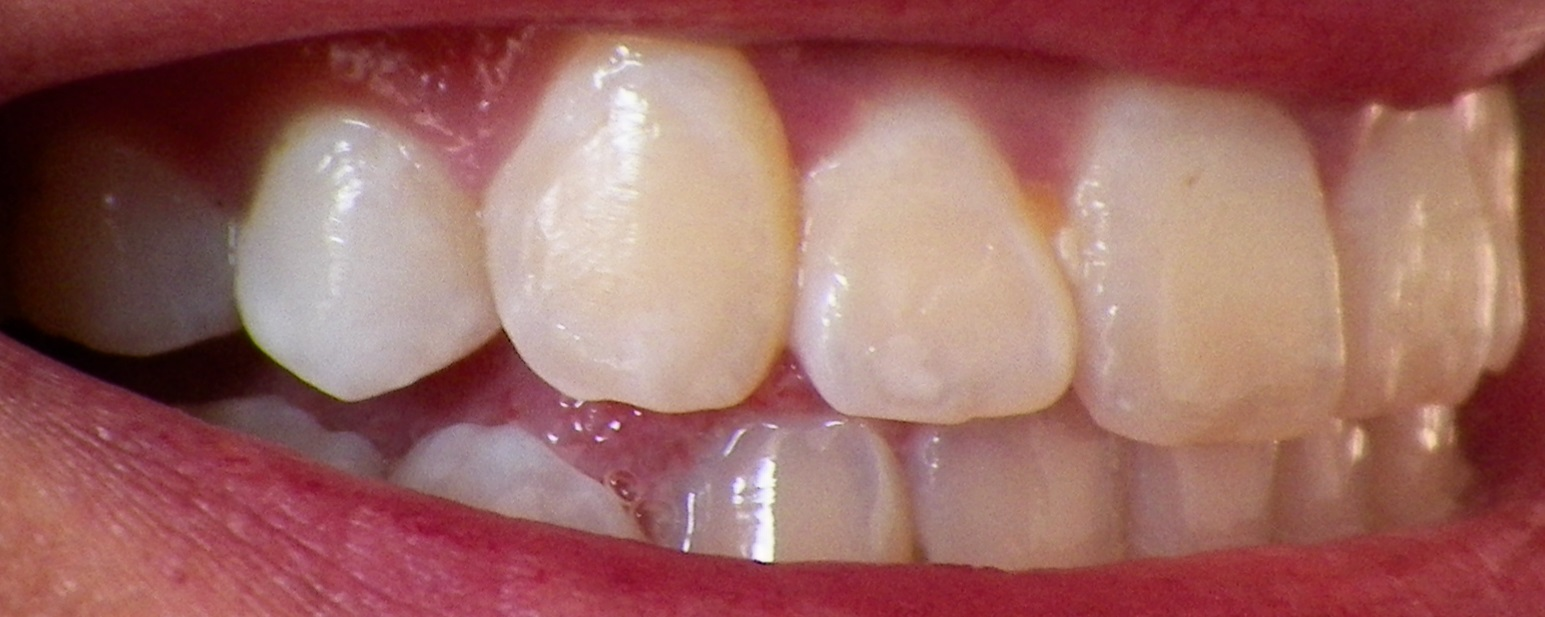boca: (38, 38, 1540, 568)
